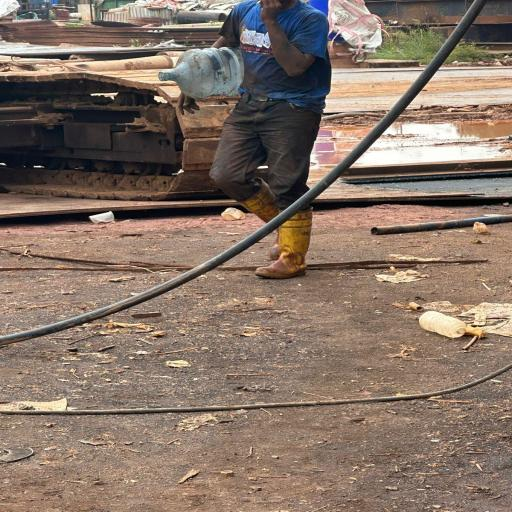safety_shoe: (256, 223, 317, 279)
